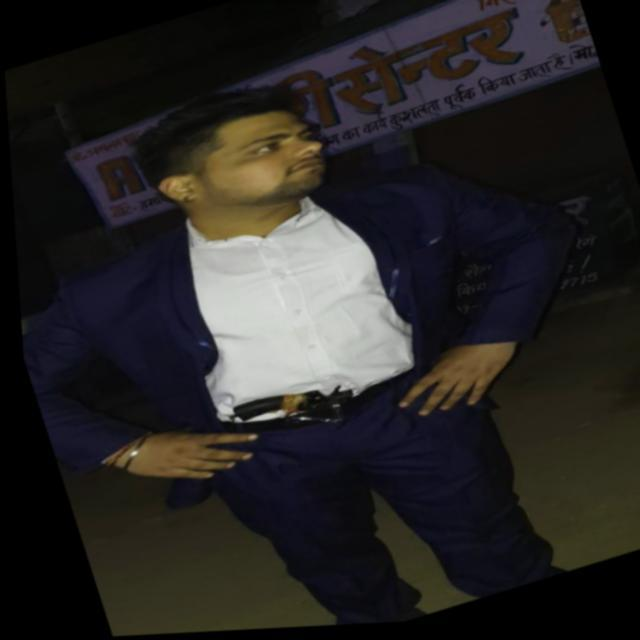weapon: (217, 370, 370, 480)
